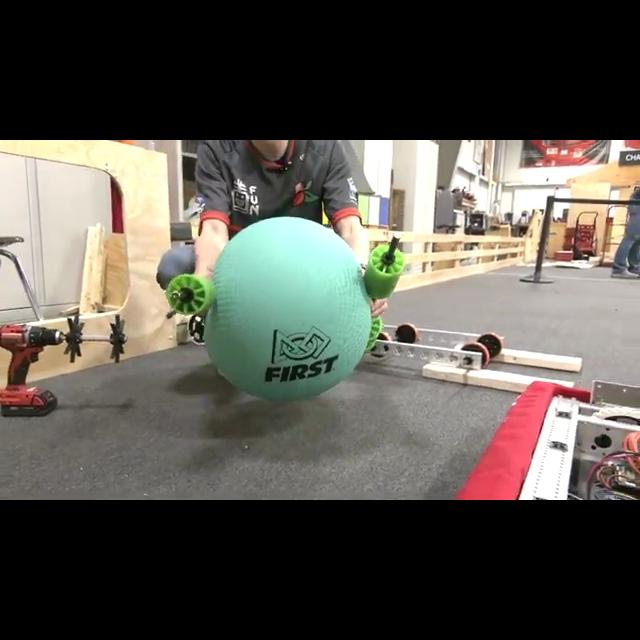ALGAE: (202, 215, 376, 401)
